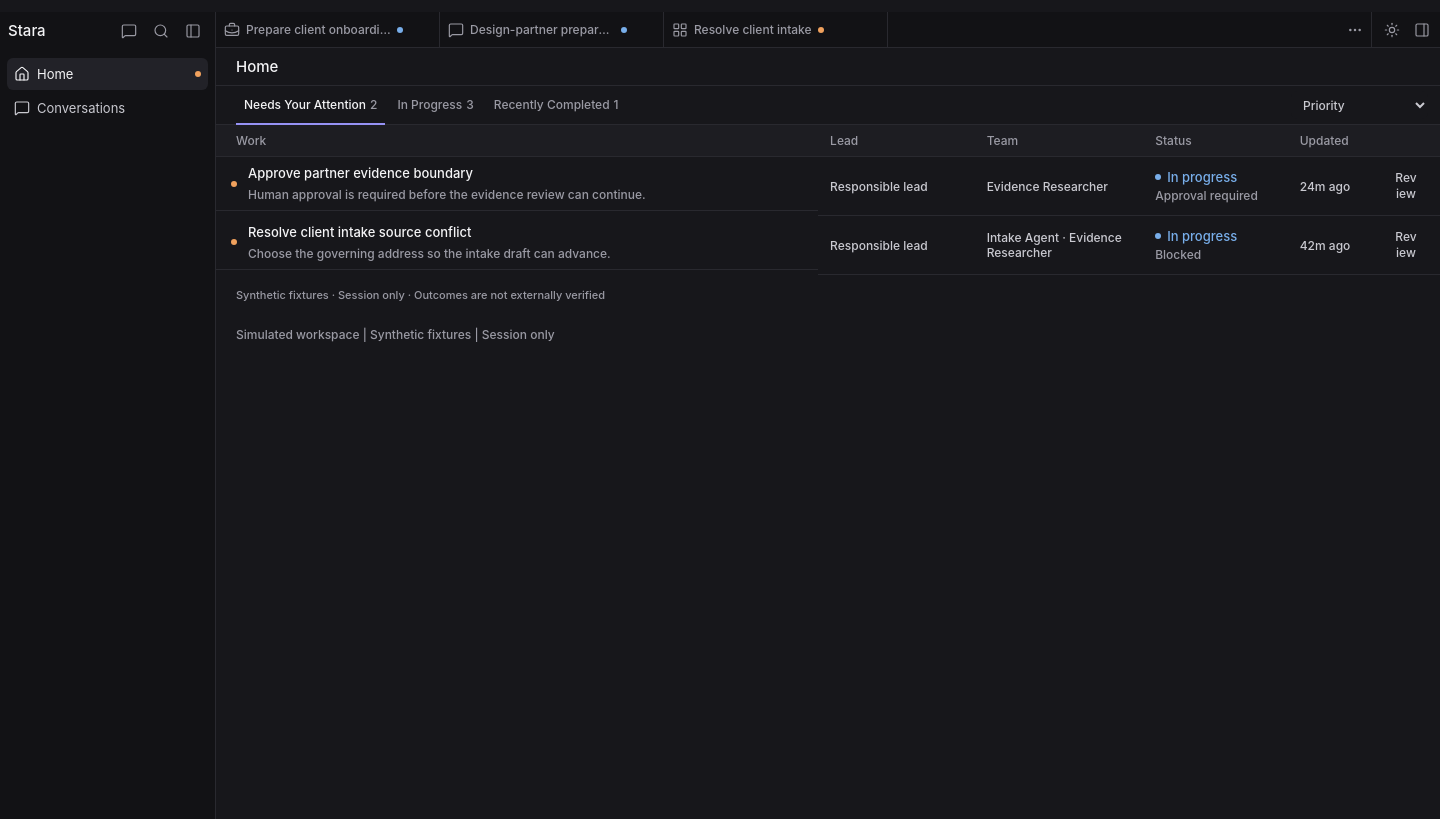
it: UI-SHELL-02 focus, inspect, open › Given Home, when an attention row is selected and reviewed, then its Conversation opens once
Click the button named "Resolve client intake source conflict Choose the governing address so the intake draft can advance." at (360, 232), box [240,216,818,268]
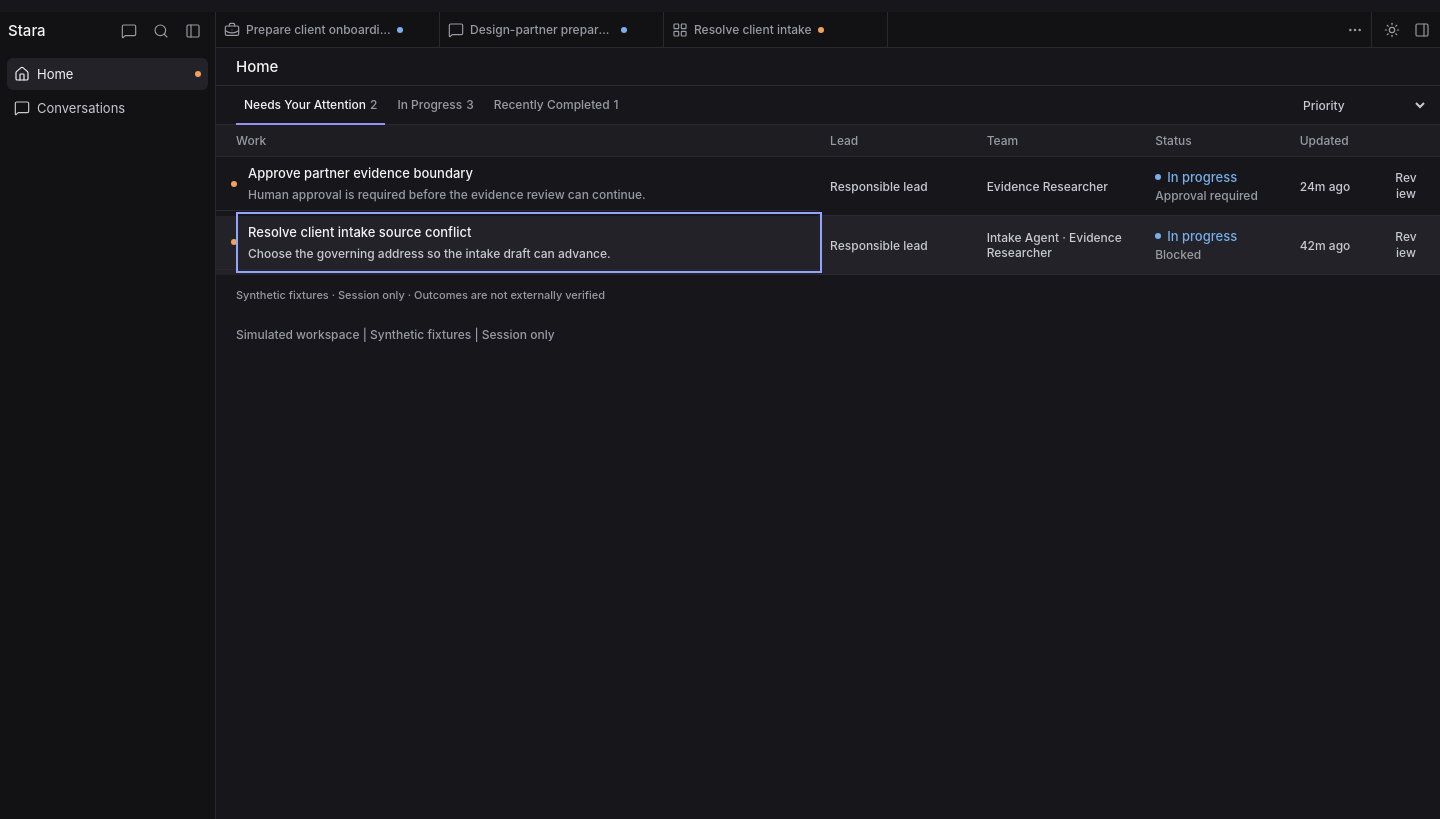
Check: the button named "Resolve client intake source conflict Choose the governing address so the intake draft can advance." is pressed, box [240,216,818,268]
Click the button with aria-label "Review: Resolve client intake source conflict" at (1406, 245), box [1384,224,1428,266]
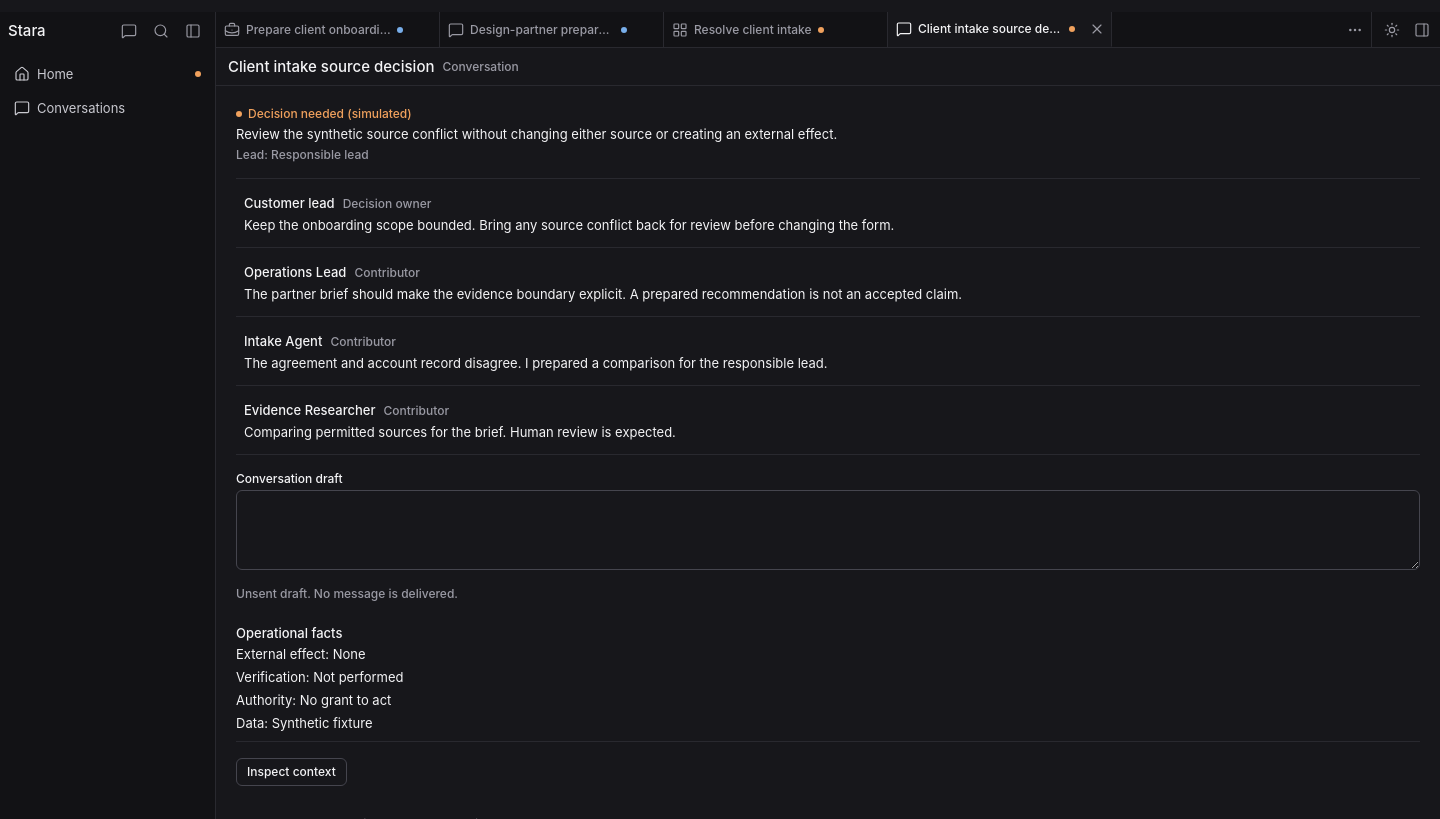
Check: the number of tabs "Client intake source decision" is 1, box [888,12,1083,46]
